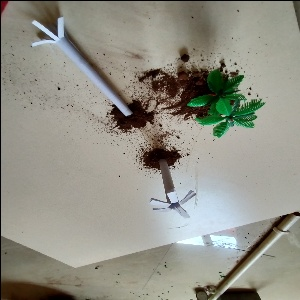plant: (175, 67, 264, 141)
weed: (22, 16, 133, 120), (139, 153, 198, 220)
